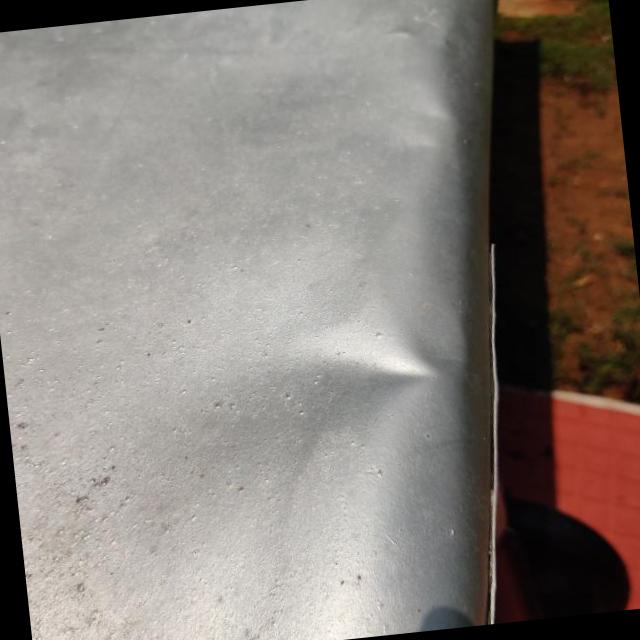Dent: (292, 310, 468, 446)
